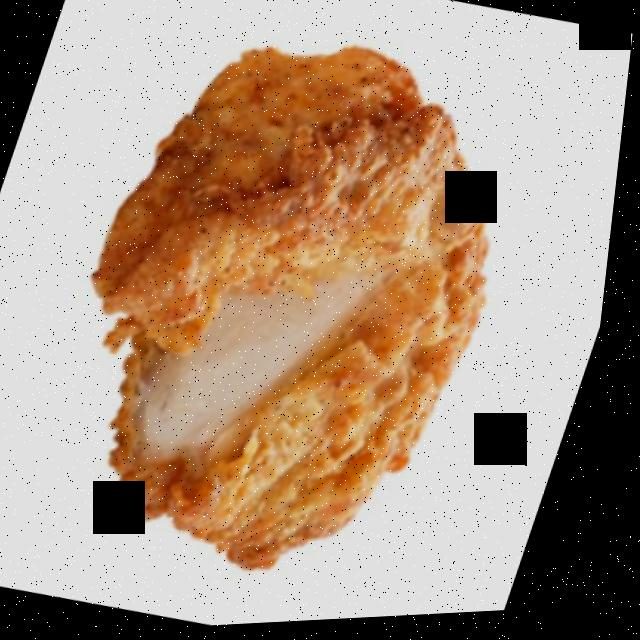Frango: (0, 0, 598, 638)
